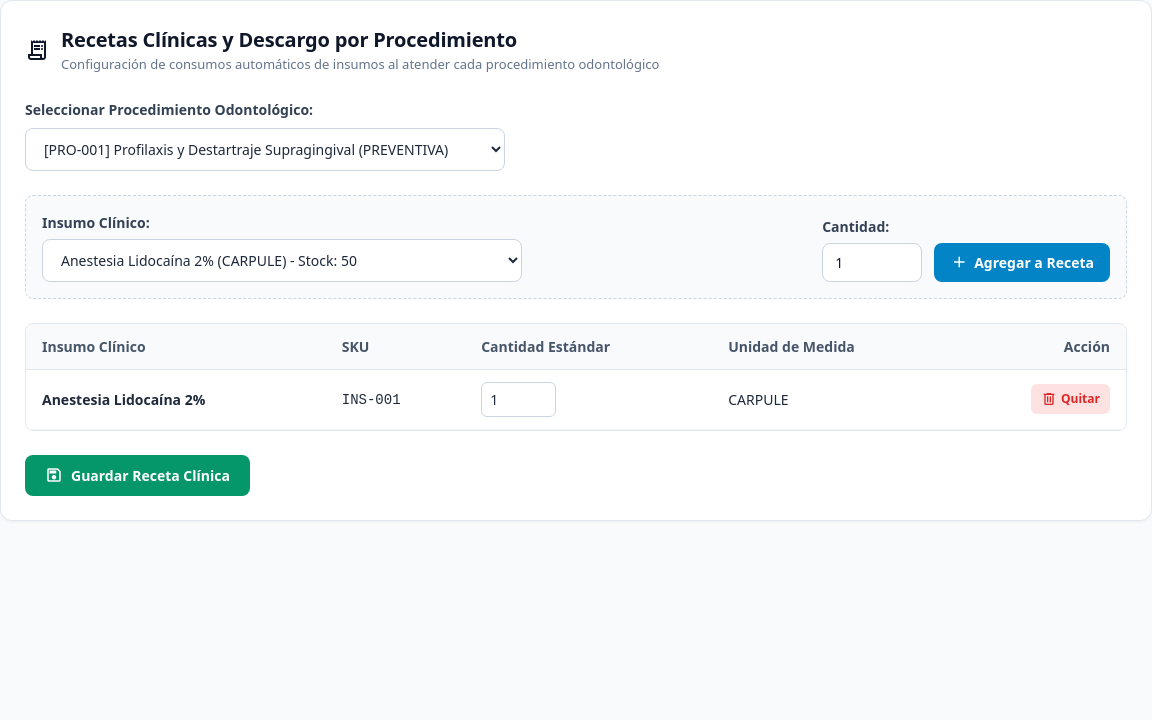
it: ProcedureRecipeConfig Component › allows saving recipe when clicking Guardar Receta Clínica
The image size is (1152, 720).
expect the text "Anestesia Lidocaína 2%" is shown: met, box [42,390,205,408]
Click the button "Guardar Receta Clínica".
click(137, 475)  # box [25,454,250,496]
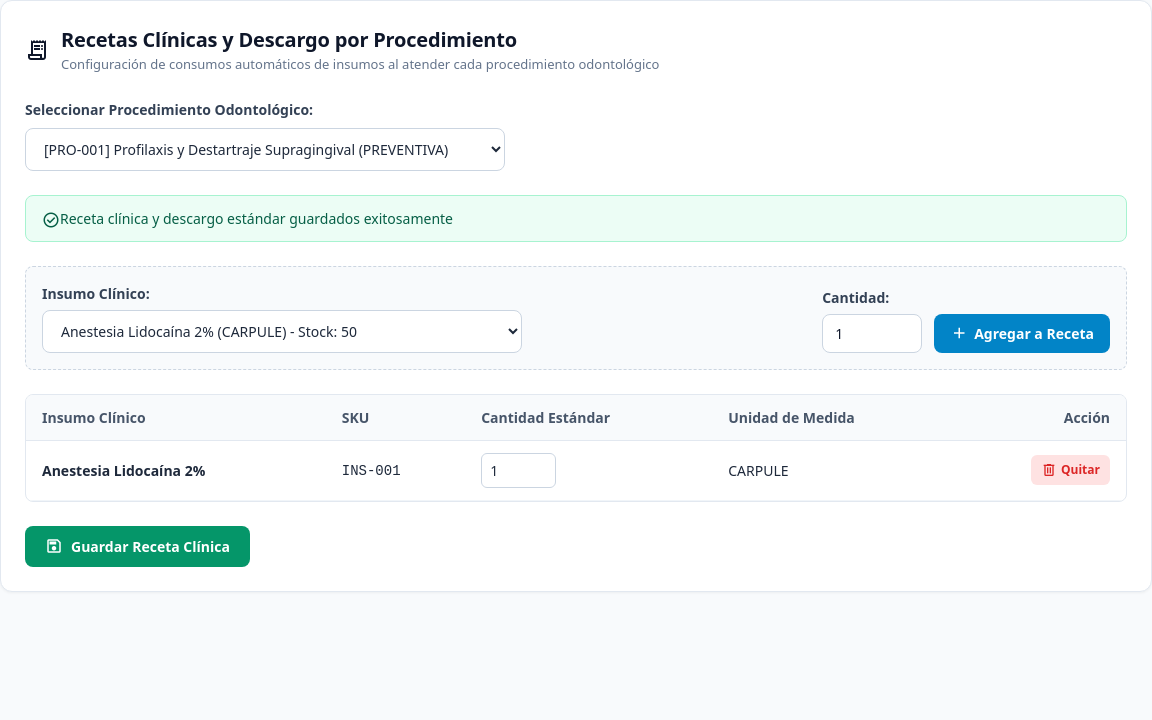
expect the text "Receta clínica y descargo estándar guardados exitosamente" is shown: met, box [25,194,1127,242]
